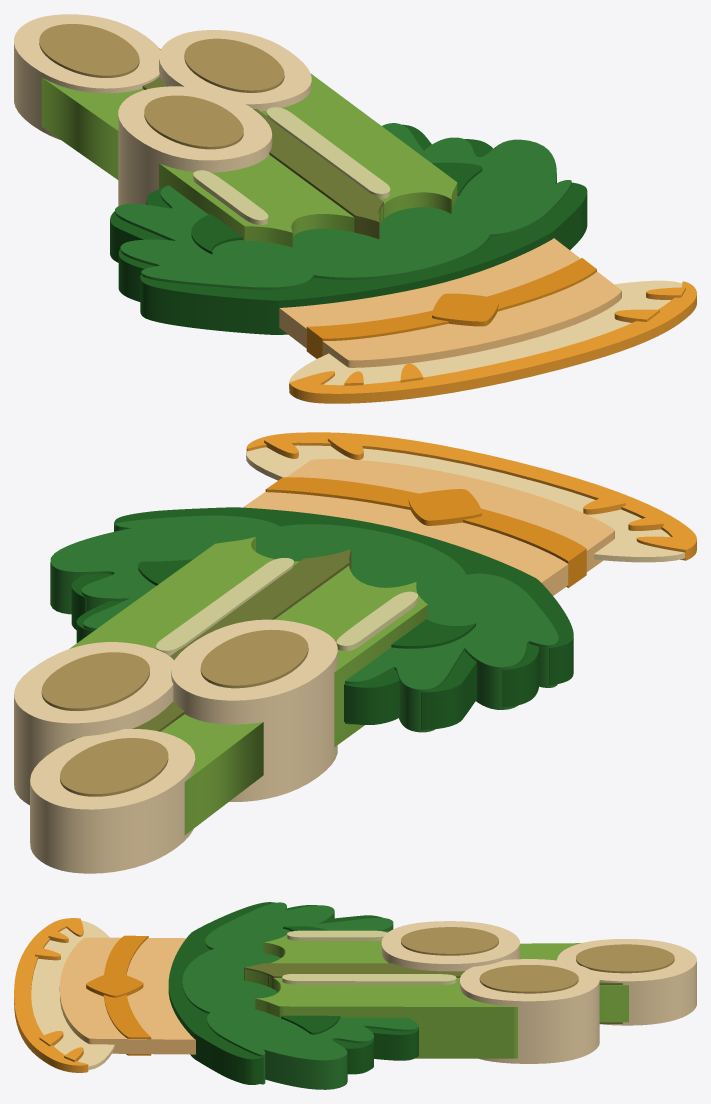
The model's file is emoji_u1f38d.glb.
The picture shows the model from 3 angles, top to bottom: view 1: azimuth 30°, elevation 25°; view 2: azimuth 150°, elevation 25°; view 3: azimuth 270°, elevation 25°; orthographic projection. The views are drawn at different scales.
Parts seen in each view (by area): view 1: emoji_u1f38d; view 2: emoji_u1f38d; view 3: emoji_u1f38d.
Part boxes in pixels (box(x1,y1,x2,y2)): emoji_u1f38d: box(14, 14, 696, 403); emoji_u1f38d: box(14, 432, 696, 873); emoji_u1f38d: box(14, 902, 696, 1089).
Bounding box in the file's own units: 0.0186 × 0.004 × 0.0336.
